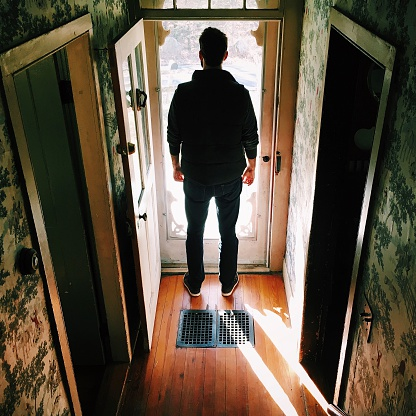em pe: (155, 17, 265, 304)
